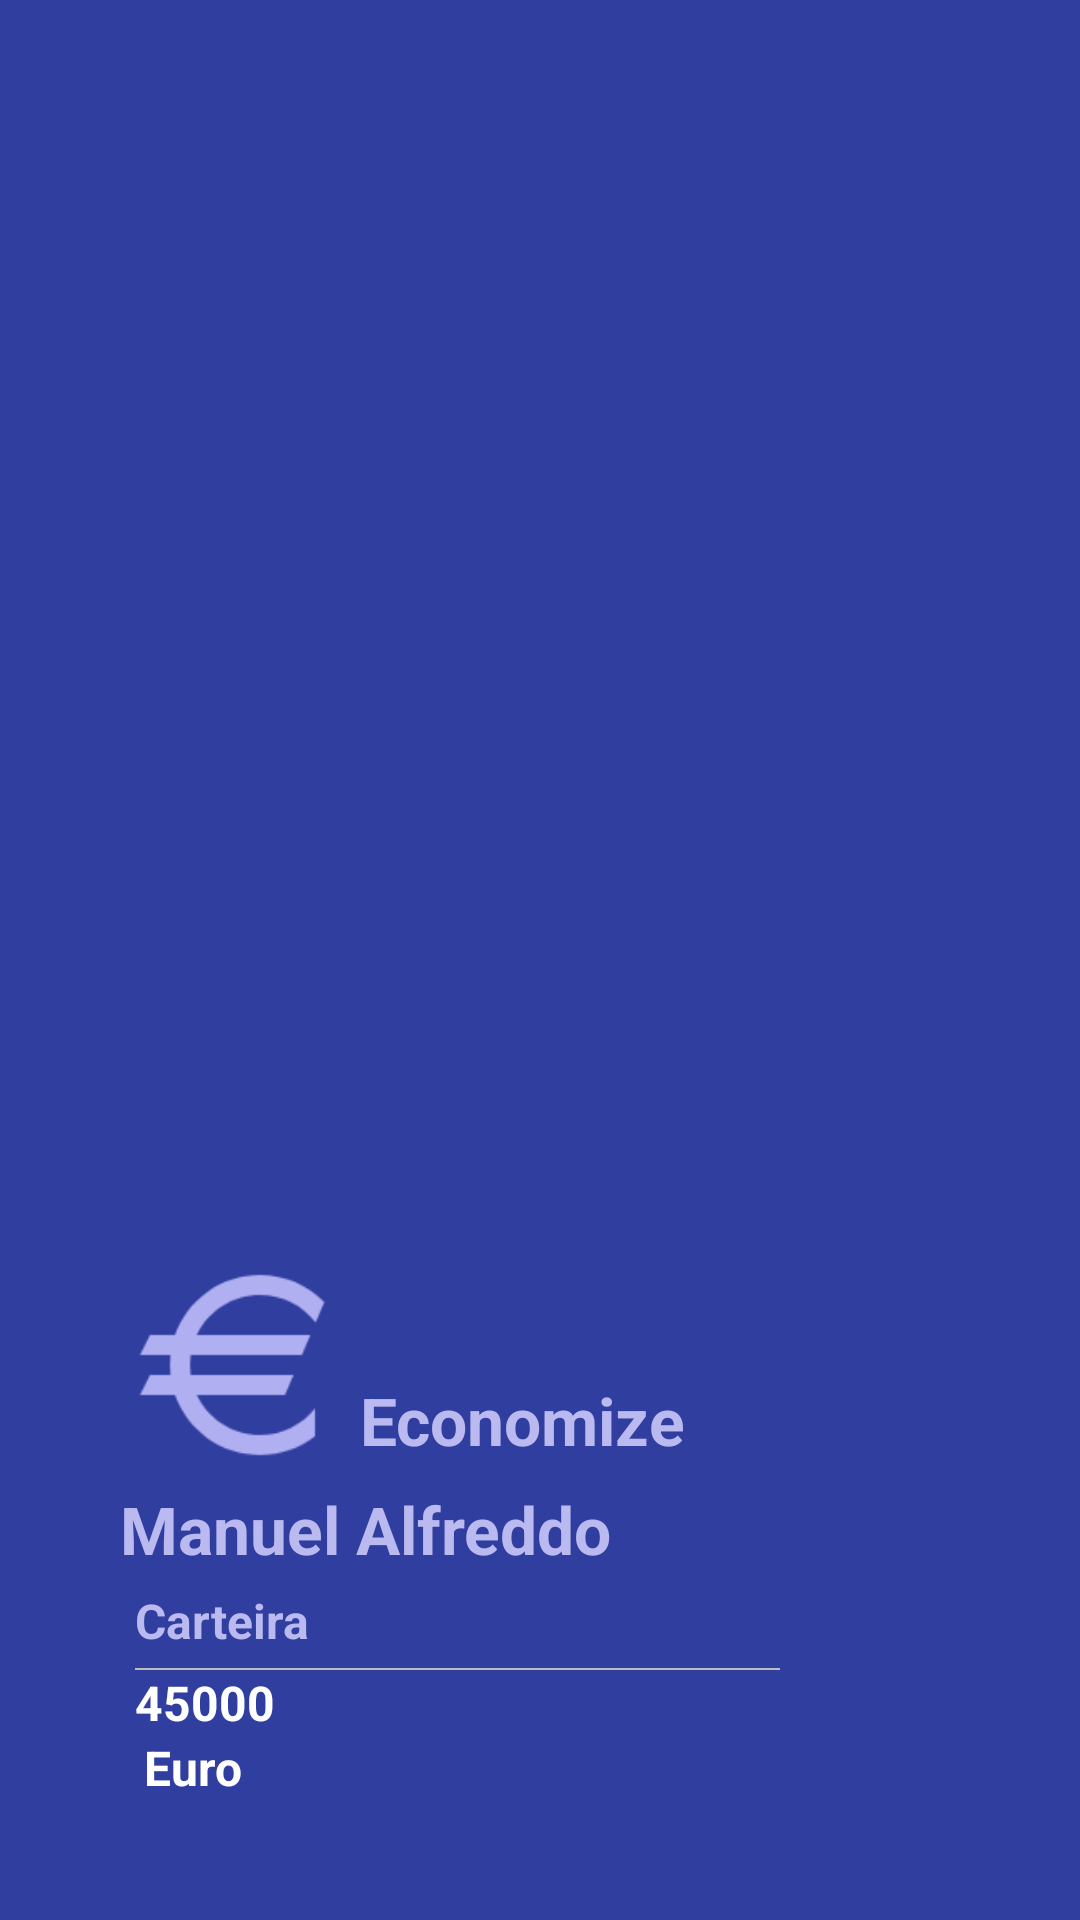

Icons on this 1080*1920 Android screen, each with the point to tap as (x,y):
currency eur: (232,1365)
